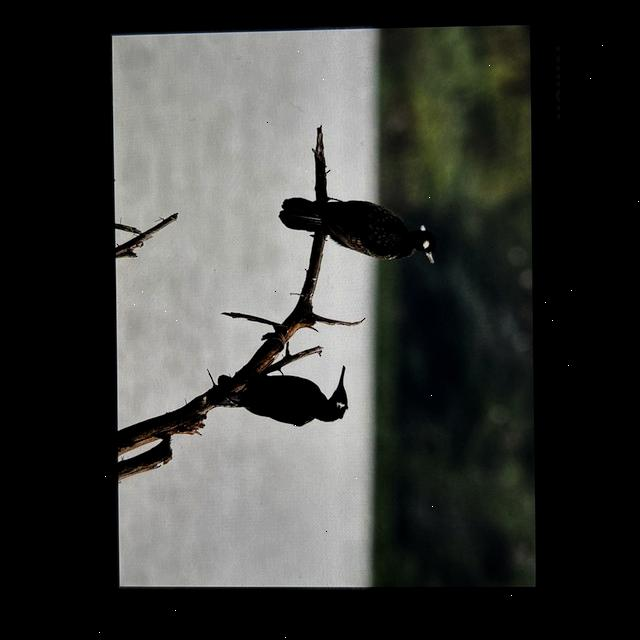cormorant: (278, 190, 442, 272), (210, 354, 360, 430)
